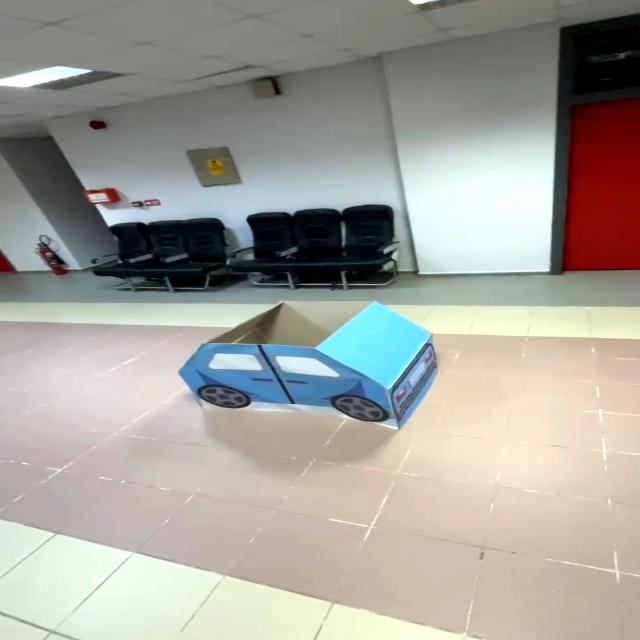blue_car: (165, 288, 451, 447)
